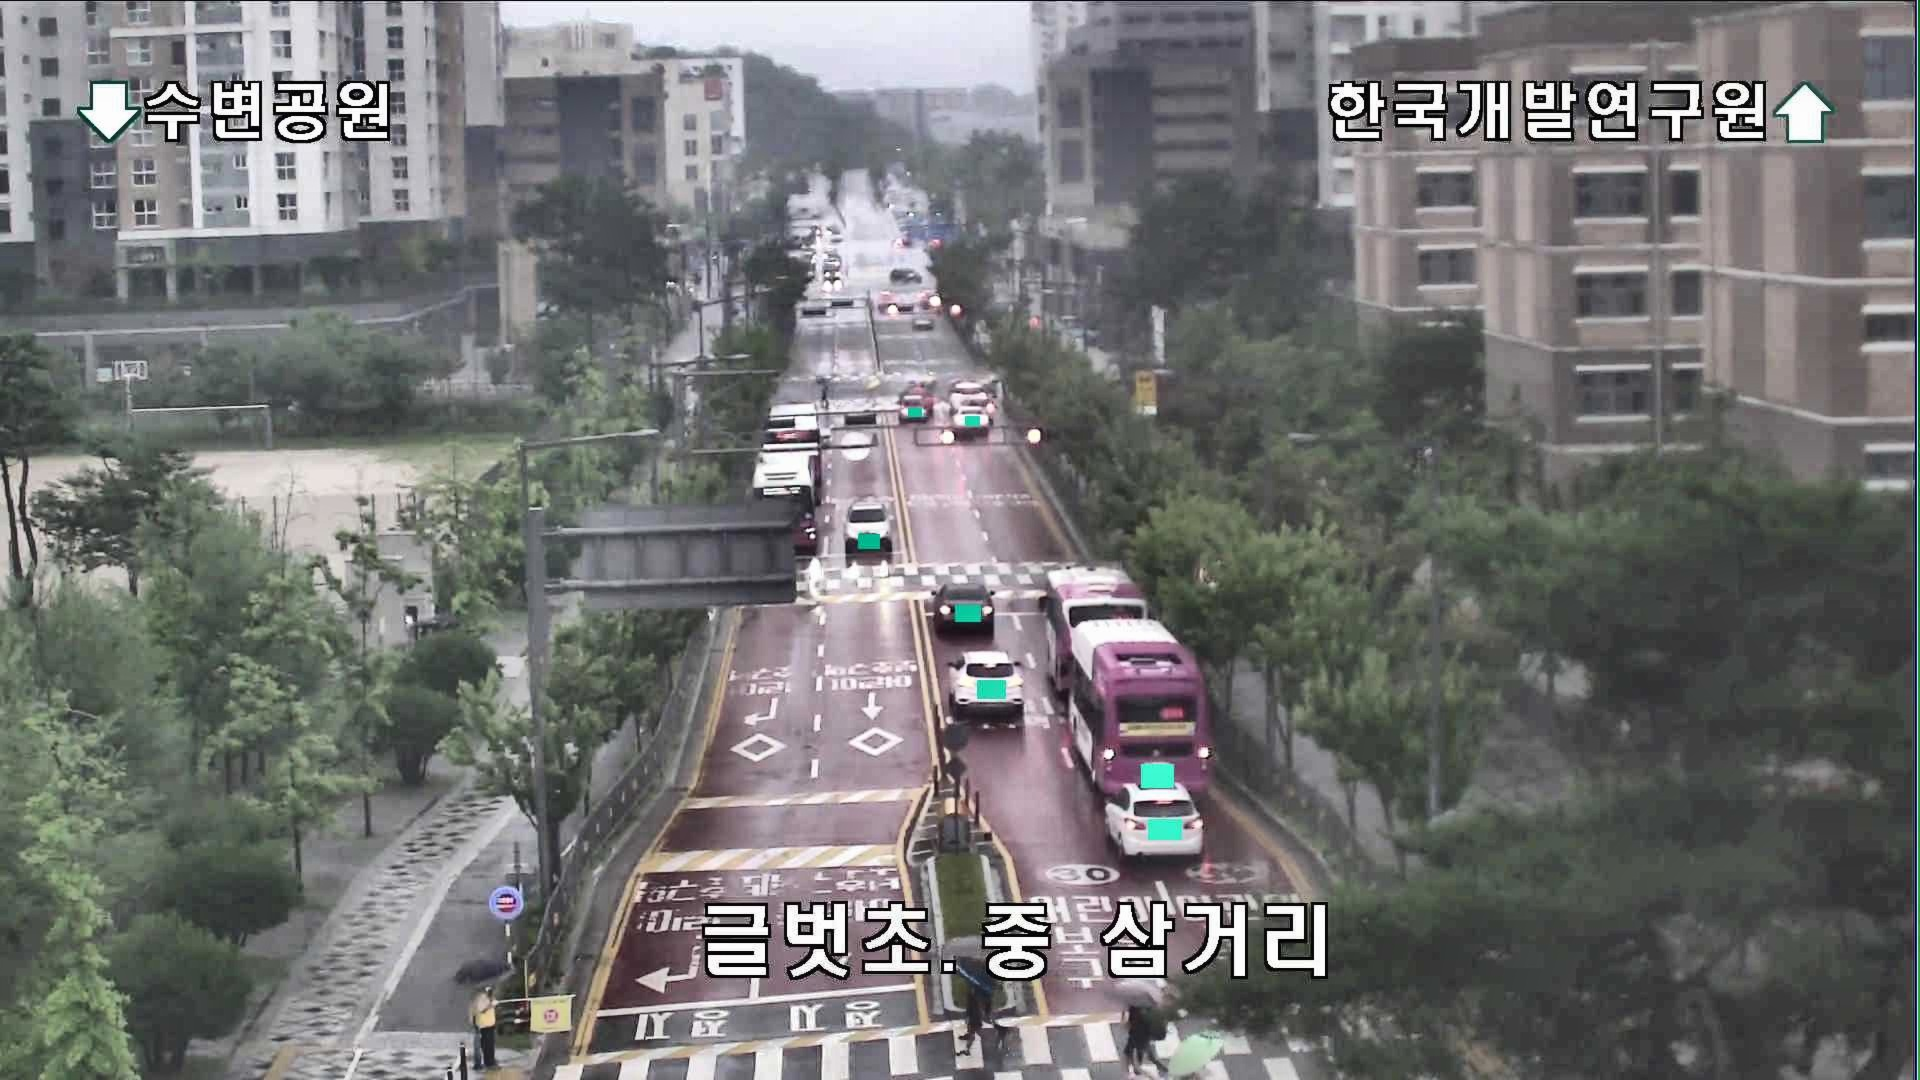um_crosswalk: (943, 956, 1013, 1063), (1118, 972, 1166, 1080)
um_sidewalk: (452, 961, 512, 1069)
